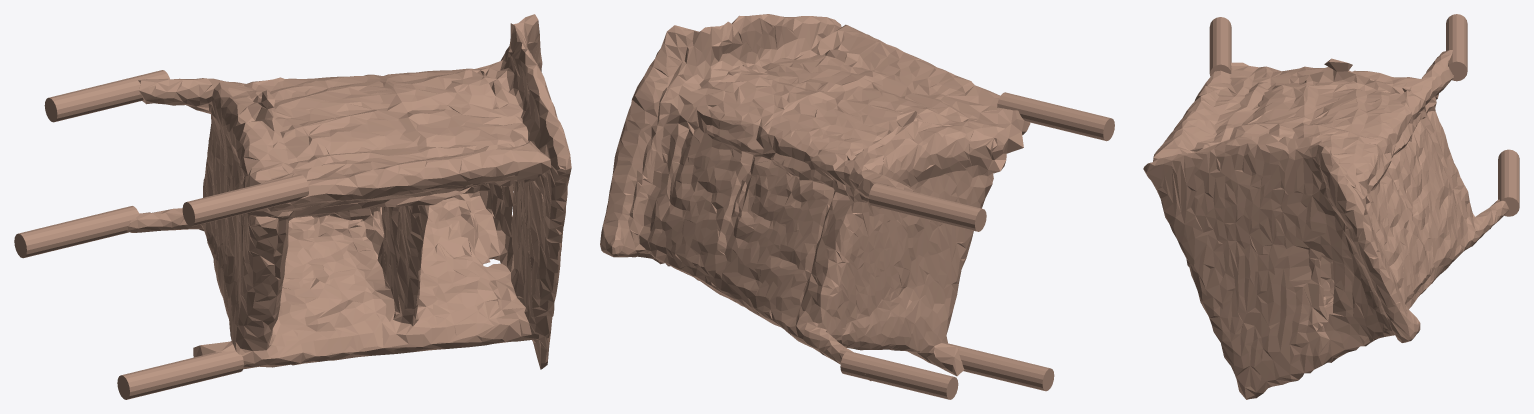
Rendered from improved.glb.
The picture shows the model from 3 angles, left to right: view 1: azimuth 30°, elevation 25°; view 2: azimuth 150°, elevation 25°; view 3: azimuth 270°, elevation 25°; orthographic projection. The views are drawn at different scales.
Parts seen in each view (by area): view 1: world; view 2: world; view 3: world.
Boxes of the visible parts, x1,y1,x2,y2 form: world: (14, 14, 571, 399); world: (600, 14, 1114, 399); world: (1143, 14, 1519, 399).
Bounding box in the file's own units: 0.55 × 0.3752 × 0.4775.
